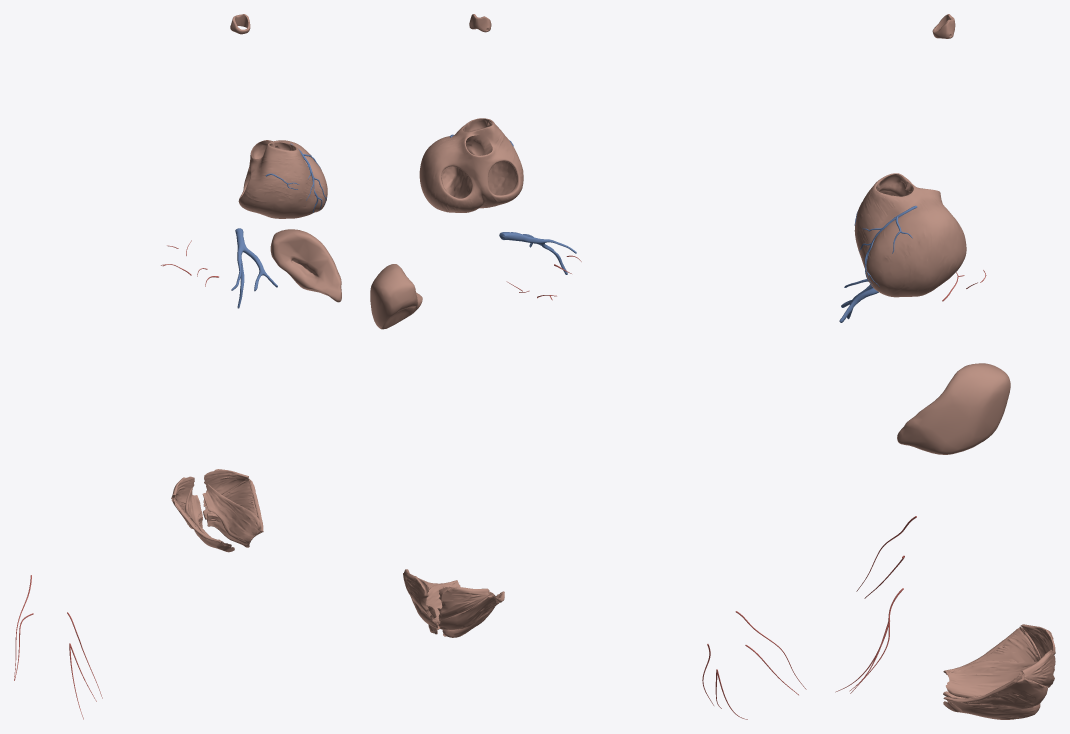
File: other-35.glb
3 views of the same model, side by side, from view 1: azimuth 30°, elevation 25°; view 2: azimuth 150°, elevation 25°; view 3: azimuth 270°, elevation 25° (orthographic). The views are drawn at different scales.
Parts seen in each view (by area): view 1: FJ2428, FJ2561, FJ2545, FJ2414, FJ2542, FJ2544; view 2: FJ2428, FJ2561, FJ2547, FJ2549; view 3: FJ2428, FJ2561, FJ2550, FJ2544, FJ2549, FJ2546, FJ2542, FJ2547, FJ2414, FJ2440.
Part boxes in pixels (<box>): FJ2428: <box>238,140,327,218</box>; FJ2561: <box>270,229,341,302</box>; FJ2545: <box>202,484,259,544</box>; FJ2414: <box>231,228,277,308</box>; FJ2542: <box>203,469,248,506</box>; FJ2544: <box>203,478,257,519</box>; FJ2428: <box>419,118,523,212</box>; FJ2561: <box>370,264,422,329</box>; FJ2547: <box>438,586,489,620</box>; FJ2549: <box>438,590,499,629</box>; FJ2428: <box>854,173,966,297</box>; FJ2561: <box>897,363,1010,454</box>; FJ2550: <box>946,660,1037,697</box>; FJ2544: <box>961,672,1047,709</box>; FJ2549: <box>978,626,1040,662</box>; FJ2546: <box>943,696,1040,719</box>; FJ2542: <box>1020,650,1055,687</box>; FJ2547: <box>1020,624,1055,671</box>; FJ2414: <box>839,279,878,322</box>; FJ2440: <box>932,14,955,38</box>.
Bounding box in the file's own units: 0.4383 × 0.7381 × 0.1841.
